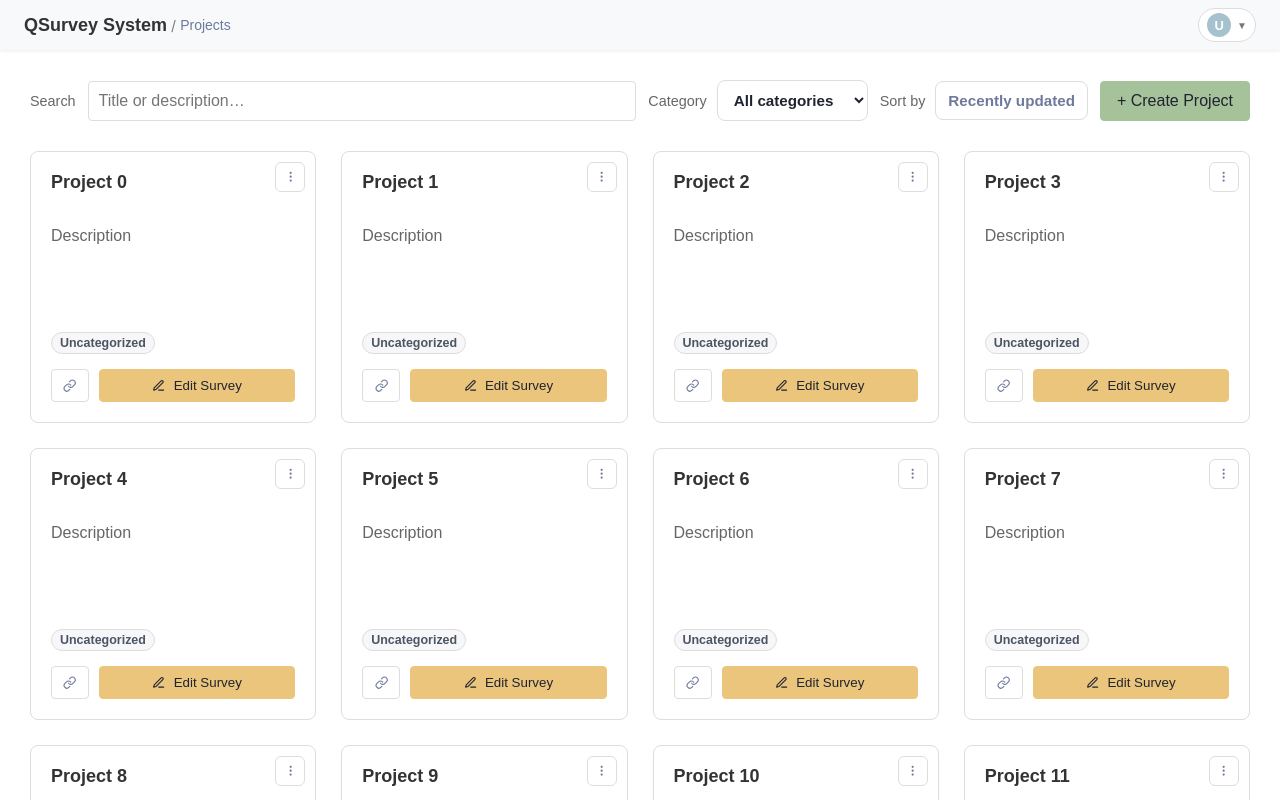
Test: designer survey quota › shows a server quota conflict without logging out when another request filled the quota
This screenshot has width=1280, height=800.
Click the button named "Project actions for Project 0": (290,177) [275,162,305,192]
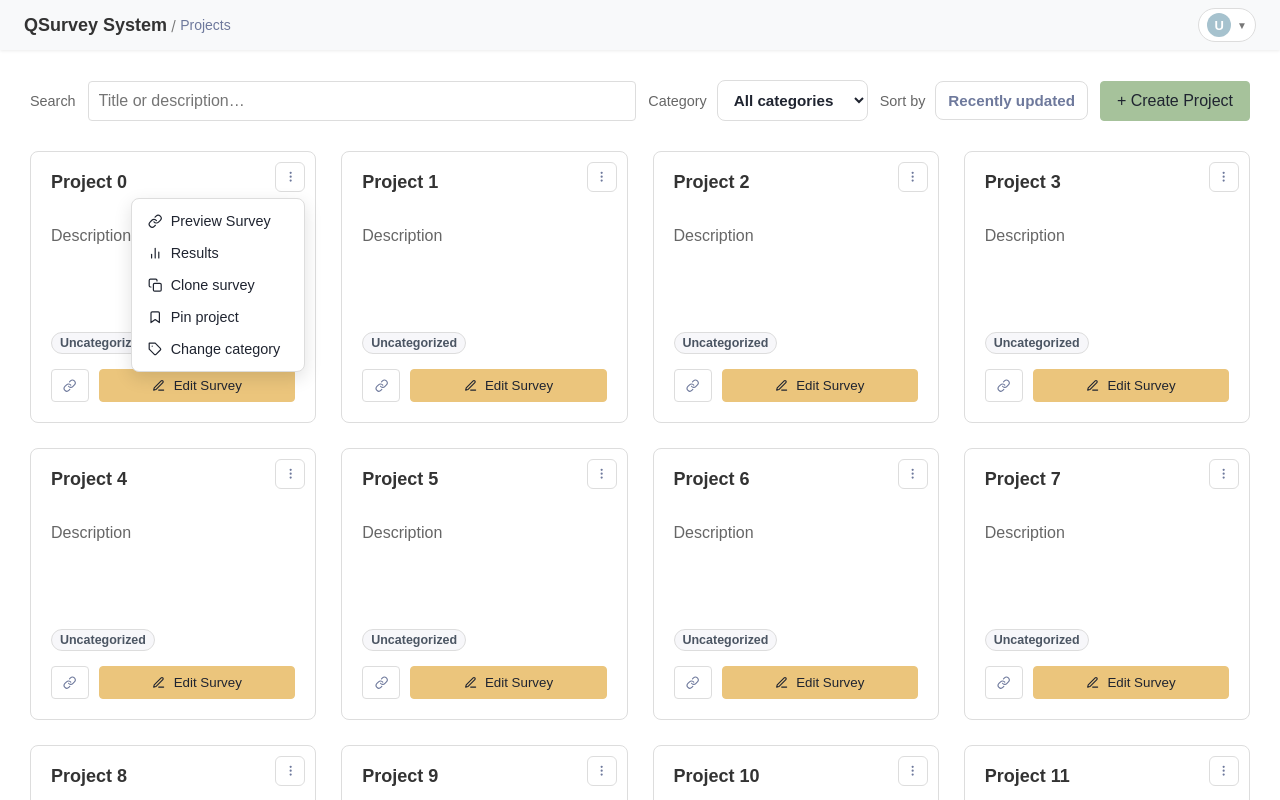
Click the menu item "Clone survey": (218,285) [138,269,298,301]
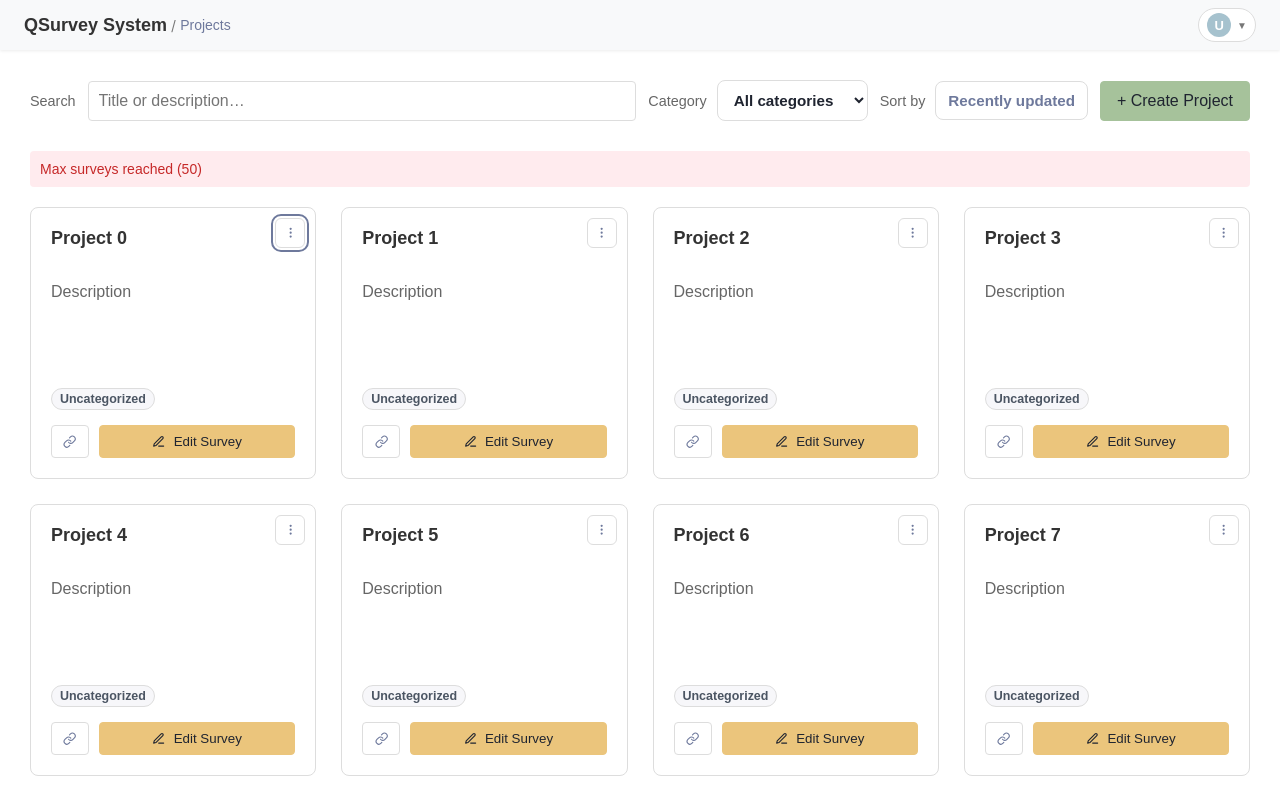
expect the message reads "Max surveys reached (50)": met, box [40,161,202,177]
